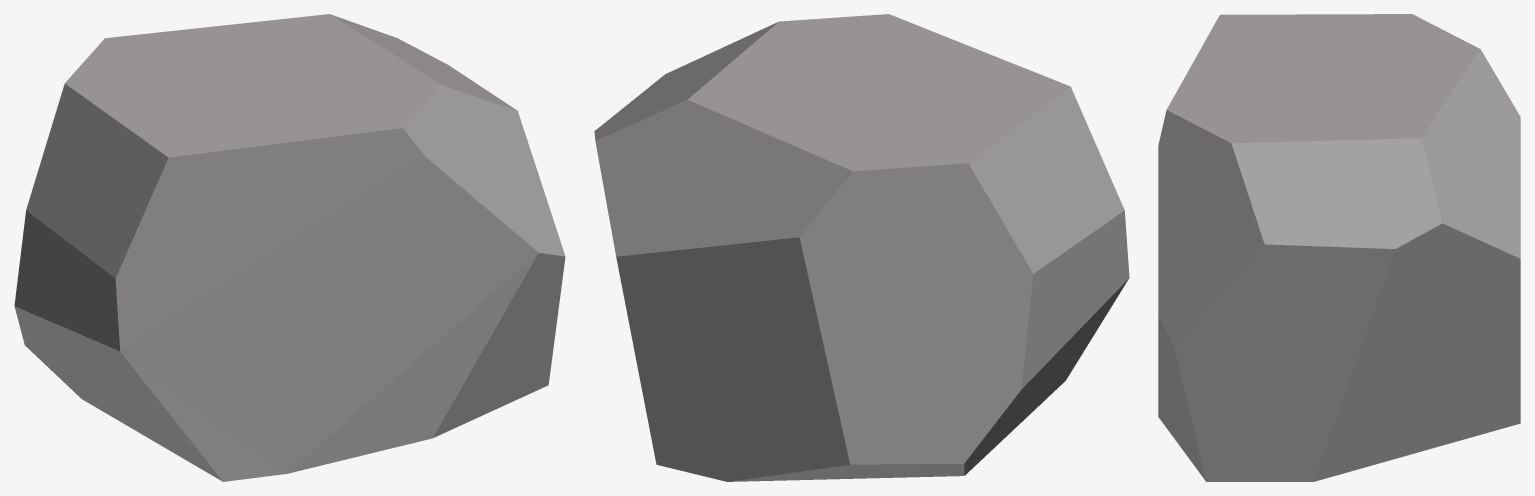
The model's file is Rock_Round_m_13.fbx.
The picture shows the model from 3 angles, left to right: view 1: azimuth 30°, elevation 25°; view 2: azimuth 150°, elevation 25°; view 3: azimuth 270°, elevation 25°; orthographic projection. The views are drawn at different scales.
Parts seen in each view (by area): view 1: Rock_Round_m_13; view 2: Rock_Round_m_13; view 3: Rock_Round_m_13.
Boxes of the visible parts, x1,y1,x2,y2 form: Rock_Round_m_13: [14, 14, 565, 481]; Rock_Round_m_13: [594, 14, 1129, 481]; Rock_Round_m_13: [1158, 14, 1520, 481].
Size of the model in its own units: 128 by 90 by 100.
